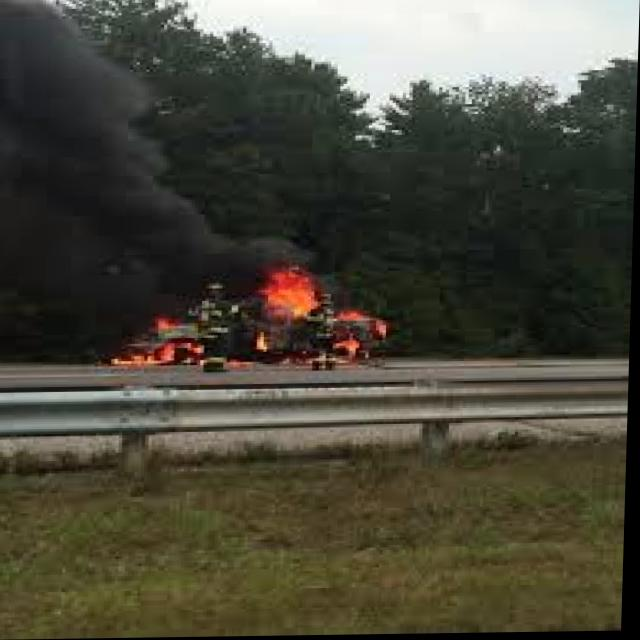fire: (113, 262, 393, 377)
